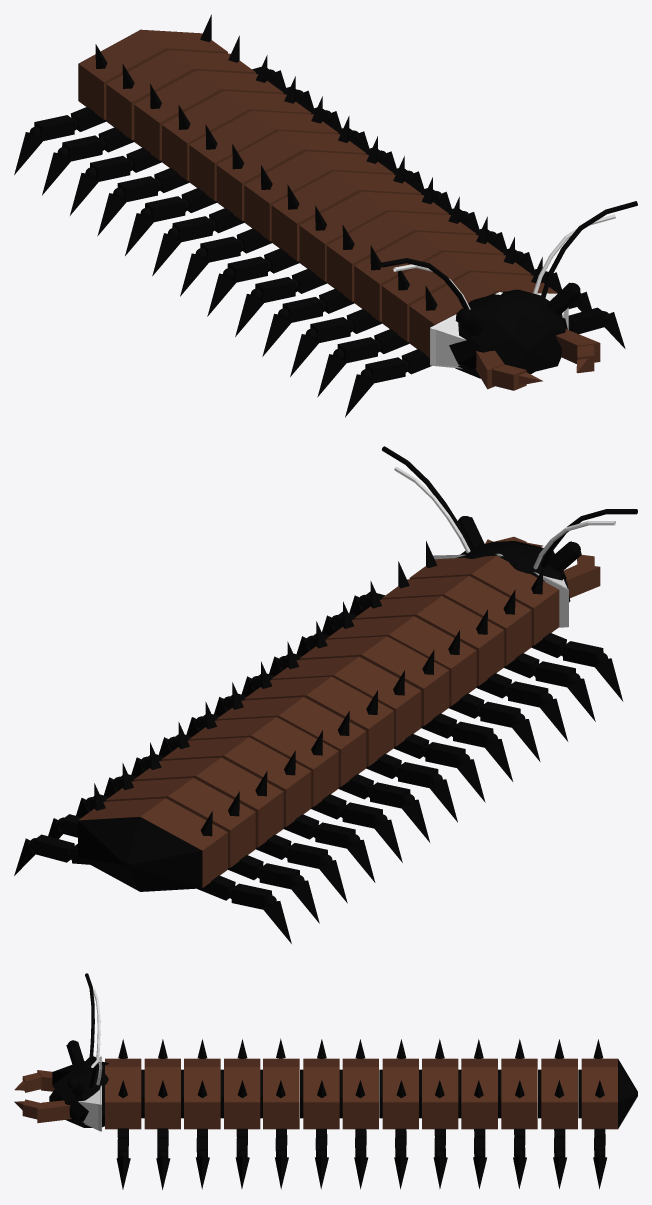
File: Centipide.fbx
3 views of the same model, one above another, from view 1: azimuth 30°, elevation 25°; view 2: azimuth 150°, elevation 25°; view 3: azimuth 270°, elevation 25° (orthographic). The views are drawn at different scales.
Visible parts, largest first — view 1: Sphere, Body.005, Body.011, Body.007, Body.012, Body.003, Body.010, Body.006, Body.008, Body.009, Body.004, Body.001 (+22 smaller); view 2: Tail, Body.004, Body.010, Body.009, Body.002, Body.006, Body.011, Body.007, Body.008, Body.001, Body.005, Body (+19 smaller); view 3: Body.004, Body.011, Body.002, Body.005, Body.009, Body.010, Body.012, Body.001, Body.003, Body.006, Body.007, Body.008 (+6 smaller).
Boxes of the visible parts, <box> form: Sphere: <box>449,289,567,378</box>; Body.005: <box>271,171,421,261</box>; Body.011: <box>106,50,255,140</box>; Body.007: <box>216,131,366,220</box>; Body.012: <box>78,30,227,119</box>; Body.003: <box>326,211,476,301</box>; Body.010: <box>134,70,283,160</box>; Body.006: <box>244,151,393,241</box>; Body.008: <box>189,111,338,200</box>; Body.009: <box>162,91,311,180</box>; Body.004: <box>299,191,448,281</box>; Body.001: <box>382,252,531,341</box>; Tail: <box>78,817,202,891</box>; Body.004: <box>299,636,449,726</box>; Body.010: <box>134,757,283,847</box>; Body.009: <box>161,737,311,827</box>; Body.002: <box>354,596,504,685</box>; Body.006: <box>244,676,393,766</box>; Body.011: <box>106,778,255,867</box>; Body.007: <box>216,697,366,786</box>; Body.008: <box>189,717,338,807</box>; Body.001: <box>382,576,531,665</box>; Body.005: <box>271,656,421,746</box>; Body: <box>409,555,559,645</box>; Body.004: <box>263,1058,299,1129</box>; Body.011: <box>541,1058,577,1129</box>; Body.002: <box>184,1058,220,1129</box>; Body.005: <box>303,1058,339,1129</box>; Body.009: <box>461,1058,497,1129</box>; Body.010: <box>501,1058,537,1129</box>; Body.012: <box>581,1058,617,1129</box>; Body.001: <box>144,1058,180,1129</box>; Body.003: <box>224,1058,260,1129</box>; Body.006: <box>342,1058,378,1129</box>; Body.007: <box>382,1058,418,1129</box>; Body.008: <box>422,1058,458,1129</box>.
Size of the model in its own units: 141 by 82.19 by 377.
